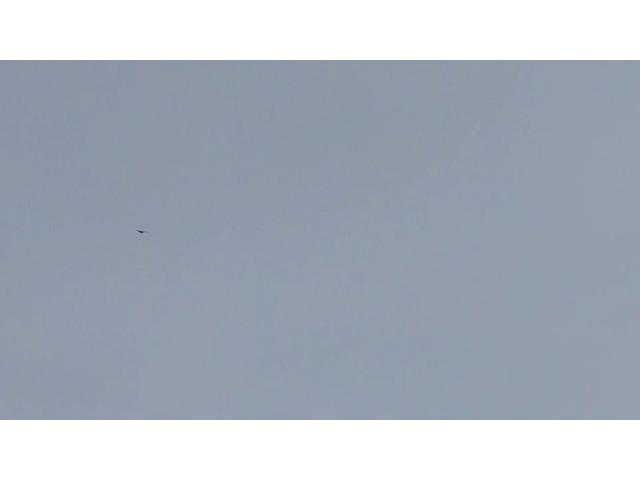Anti-Drone: (136, 227, 148, 236)
